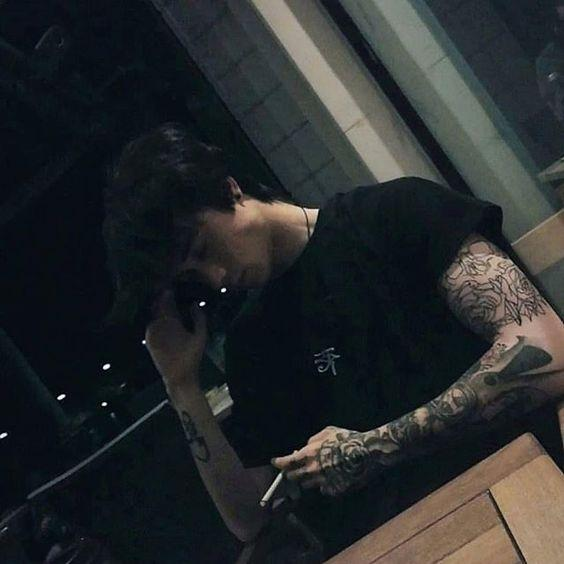cigarette: (259, 469, 288, 508)
